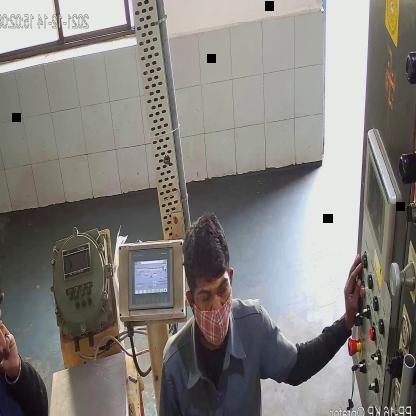no_goggles: (193, 279, 232, 307)
